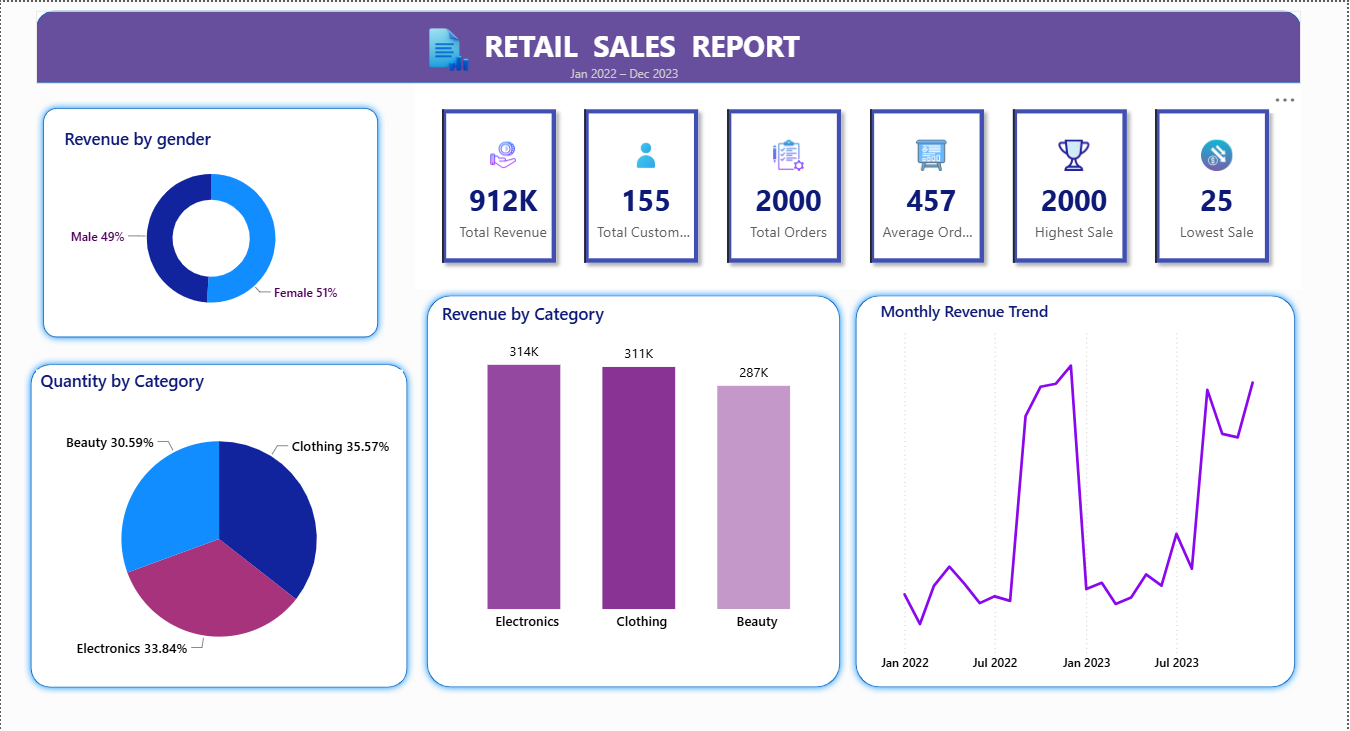

Layout of this report page (visuals, bound fields, positions):
{"tool":"powerbi","page":{"name":"Page 1","canvas":[1500,820],"ordinal":0},"visuals":[{"type":"cardVisual","fields":{"Data":["SQL - Retail Sales Analysis_utf.Total Revenue","SQL - Retail Sales Analysis_utf.Total Customers","SQL - Retail Sales Analysis_utf.Total Orders","SQL - Retail Sales Analysis_utf.Average Order Value","SQL - Retail Sales Analysis_utf.Highest Sale","SQL - Retail Sales Analysis_utf.Lowest Sale"]},"box":[461.5,88.4,987.4,231.6],"z":0},{"type":"shape","box":[39,9.7,1409.4,80.8],"z":1000},{"type":"textbox","box":[506.7,22.7,414.7,56],"z":2000},{"type":"textbox","box":[602.7,65.3,161.3,28],"z":3000},{"type":"image","box":[467.1,22.9,55.7,57.1],"z":4000},{"type":"shape","box":[466.5,318.9,476.3,452.6],"z":5000},{"type":"columnChart","title":"Revenue by Category","fields":{"Category":["SQL - Retail Sales Analysis_utf.category"],"Y":["SQL - Retail Sales Analysis_utf.Total Revenue"]},"box":[485.6,334.5,456.7,376.3],"z":6000},{"type":"shape","box":[944.2,318.9,505.5,452.6],"z":7000},{"type":"lineChart","title":"Monthly Revenue Trend","fields":{"Y":["SQL - Retail Sales Analysis_utf.Total Revenue"],"Category":["SQL - Retail Sales Analysis_utf.sale_date.Variation.Date Hierarchy.Year","SQL - Retail Sales Analysis_utf.sale_date.Variation.Date Hierarchy.Month"]},"box":[974.9,332.8,449.8,423.4],"z":8000},{"type":"shape","box":[38.6,109.3,389.2,271.8],"z":9000},{"type":"donutChart","title":"Revenue by gender","fields":{"Category":["SQL - Retail Sales Analysis_utf.gender"],"Y":["SQL - Retail Sales Analysis_utf.Total Revenue"]},"box":[65.9,139.9,337.7,223.5],"z":10000},{"type":"shape","box":[25.7,395.6,435.8,376.3],"z":11000},{"type":"pieChart","title":" Quantity by Category","fields":{"Category":["SQL - Retail Sales Analysis_utf.category"],"Y":["Sum(SQL - Retail Sales Analysis_utf.quantiy)"]},"box":[38.6,410.1,408.4,345.7],"z":12000}]}

Visuals, with their boxes in screenshot pixels (x1, y1, x2, y2), scaled from the page's 1500x820 canvas onto the 1350x731 screenshot:
cardVisual - SQL - Retail Sales Analysis_utf.Total Revenue x SQL - Retail Sales Analysis_utf.Total Customers: locate(415, 79, 1304, 285)
shape: locate(35, 9, 1304, 81)
textbox: locate(456, 20, 829, 70)
textbox: locate(542, 58, 688, 83)
image: locate(420, 20, 471, 71)
shape: locate(420, 284, 849, 688)
"Revenue by Category" columnChart: locate(437, 298, 848, 634)
shape: locate(850, 284, 1305, 688)
"Monthly Revenue Trend" lineChart: locate(877, 297, 1282, 674)
shape: locate(35, 97, 385, 340)
"Revenue by gender" donutChart: locate(59, 125, 363, 324)
shape: locate(23, 353, 415, 688)
" Quantity by Category" pieChart: locate(35, 366, 402, 674)
